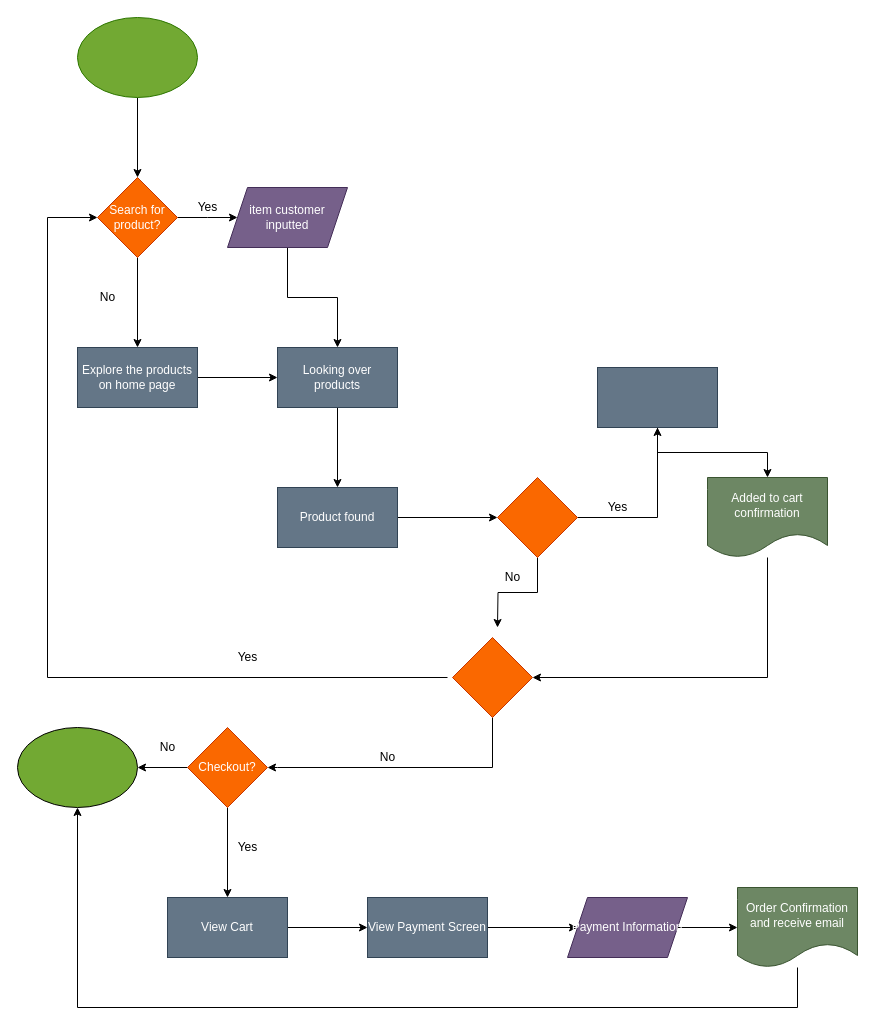
Image size: 875x1033. Some labels were removed from this diagram. The centre of each missing label's shape, as x and y in pixels:
"Close Website" goes at [77,767].
"Continue Shopping" goes at [492,677].
"product webpage open" goes at [657,397].
"User Enters Website" goes at [137,57].
"View product?" goes at [537,517].
